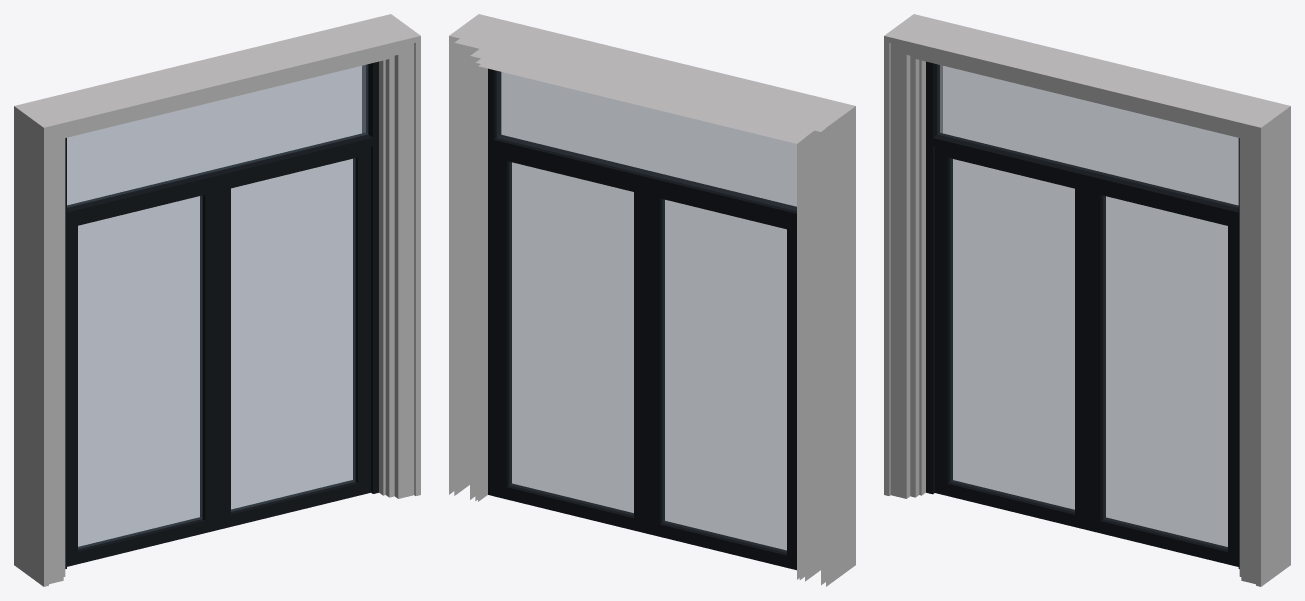
Rendered from waimen.obj.
3 views of the same model, side by side, from view 1: azimuth 30°, elevation 25°; view 2: azimuth 150°, elevation 25°; view 3: azimuth 330°, elevation 25° (orthographic).
Parts seen in each view (by area): view 1: Rectangle044, Object4963, Rectangle043, Rectangle042, Rectangle041; view 2: Rectangle044, Object4963, Rectangle043, Rectangle042, Rectangle041; view 3: Rectangle044, Object4963, Rectangle042, Rectangle043, Rectangle041.
Boxes of the visible parts, x1=… form: Rectangle044: x1=67, y1=64, x2=368, y2=549; Object4963: x1=14, y1=14, x2=420, y2=586; Rectangle043: x1=217, y1=146, x2=370, y2=529; Rectangle042: x1=67, y1=184, x2=217, y2=566; Rectangle041: x1=65, y1=61, x2=378, y2=568; Rectangle044: x1=496, y1=71, x2=796, y2=552; Object4963: x1=449, y1=14, x2=855, y2=586; Rectangle043: x1=494, y1=148, x2=647, y2=533; Rectangle042: x1=647, y1=185, x2=796, y2=570; Rectangle041: x1=488, y1=68, x2=796, y2=496; Rectangle044: x1=937, y1=64, x2=1238, y2=549; Object4963: x1=884, y1=14, x2=1290, y2=586; Rectangle042: x1=935, y1=147, x2=1087, y2=529; Rectangle043: x1=1086, y1=184, x2=1238, y2=566; Rectangle041: x1=926, y1=61, x2=1239, y2=568.
Size of the model in its own units: 21.21 by 24.69 by 2.91.
